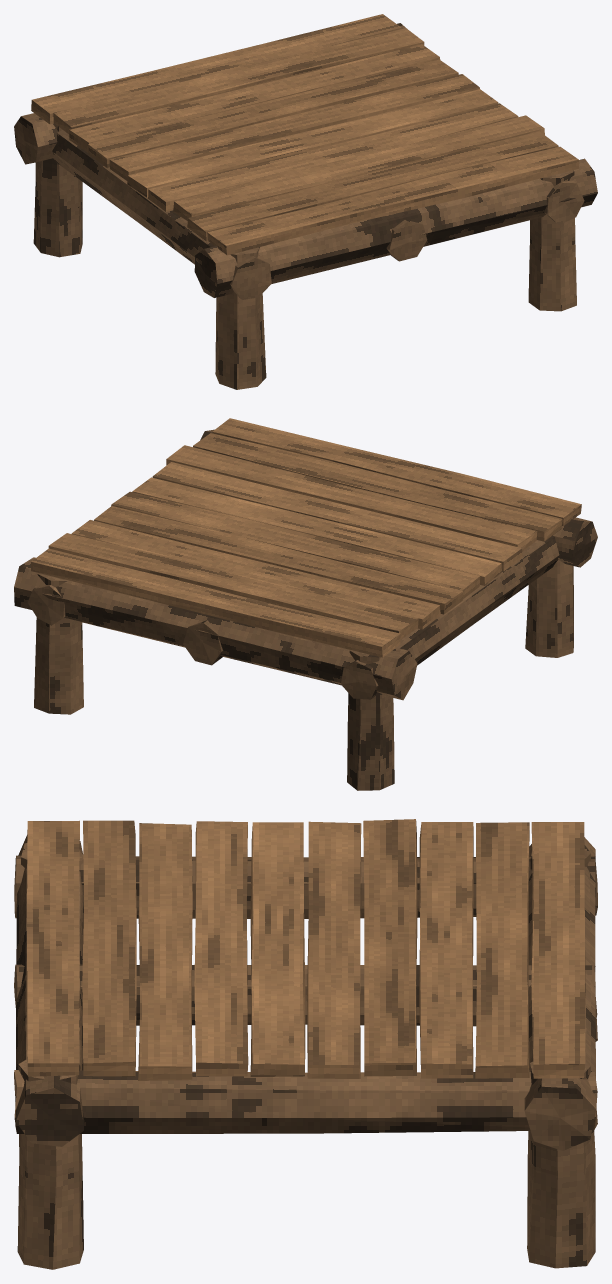
The model's file is fundacao_madeira.glb.
The picture shows the model from 3 angles, top to bottom: view 1: azimuth 30°, elevation 25°; view 2: azimuth 150°, elevation 25°; view 3: azimuth 270°, elevation 25°; orthographic projection. The views are drawn at different scales.
Parts seen in each view (by area): view 1: fundacao_madeira_madeira, fundacao_madeira_tronco; view 2: fundacao_madeira_madeira, fundacao_madeira_tronco; view 3: fundacao_madeira_madeira, fundacao_madeira_tronco.
Part boxes in pixels (x1=…): fundacao_madeira_madeira: x1=31, y1=14, x2=578, y2=255; fundacao_madeira_tronco: x1=14, y1=23, x2=597, y2=389; fundacao_madeira_madeira: x1=31, y1=418, x2=581, y2=657; fundacao_madeira_tronco: x1=14, y1=429, x2=597, y2=790; fundacao_madeira_madeira: x1=25, y1=819, x2=585, y2=1080; fundacao_madeira_tronco: x1=14, y1=835, x2=597, y2=1269.
Size of the model in its own units: 3.32 by 1.22 by 3.12.
Materials: 2 (2 with a texture image).
